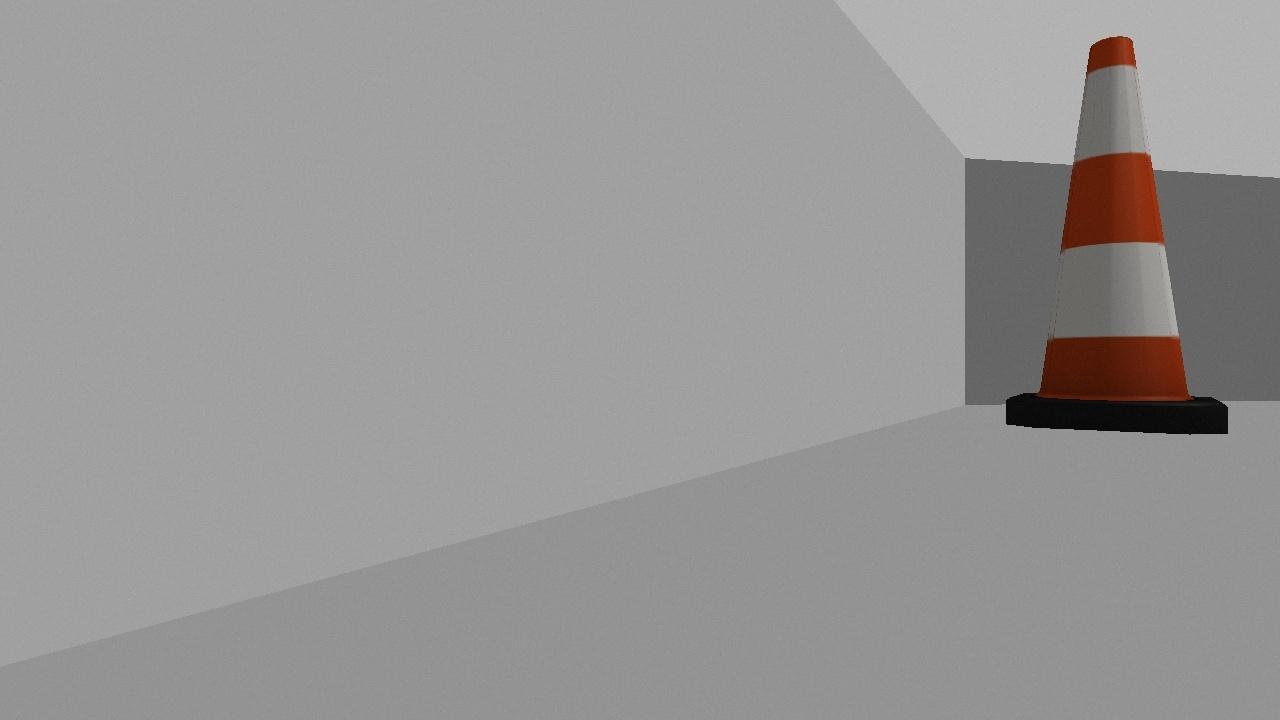cone_barrel: (1004, 35, 1226, 433)
